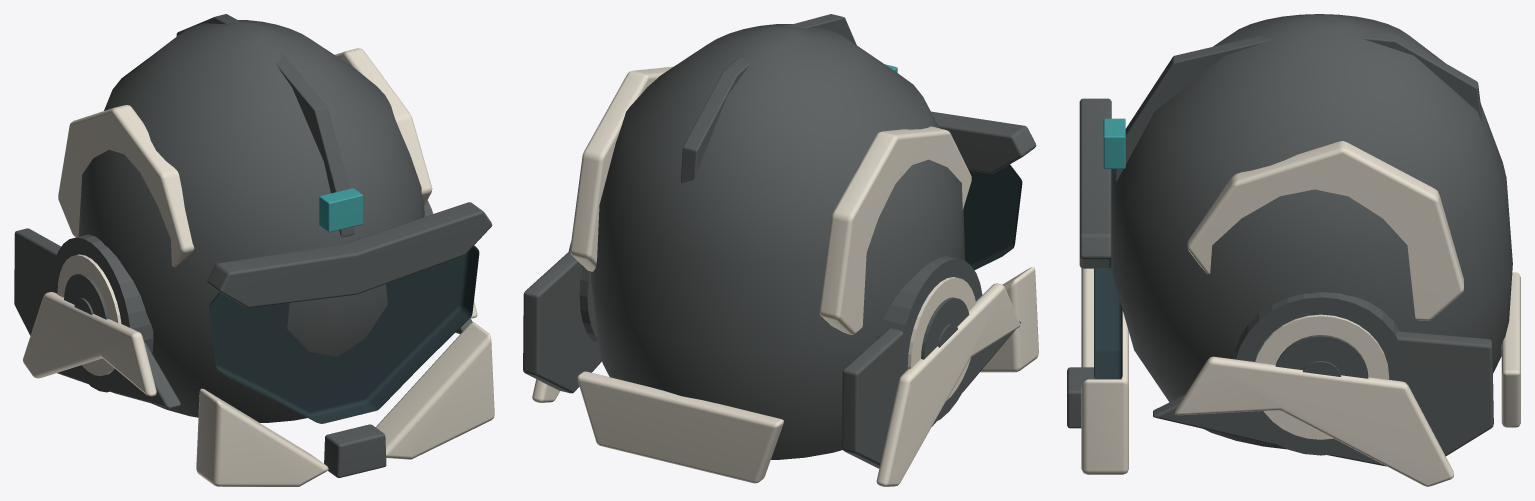
The model's file is kestrel-field-helmet.fbx.
The picture shows the model from 3 angles, left to right: view 1: azimuth 30°, elevation 25°; view 2: azimuth 150°, elevation 25°; view 3: azimuth 270°, elevation 25°; orthographic projection. The views are drawn at different scales.
Parts seen in each view (by area): view 1: Continuous fitted graphite helmet shell, One-piece recessed dark visor, Upper visor brow rail, Right independent cream mandible, Left cream crown side plate, Left independent cream mandible, Left cream cheek flank, Left graphite jaw socket, Left ear outer frame, Central raised crown spline, Chin mechanical latch, Right cream crown side plate (+3 smaller); view 2: Continuous fitted graphite helmet shell, Back nape armored panel, Left cream crown side plate, Left cream cheek flank, Right graphite jaw socket, Left graphite jaw socket, Right cream crown side plate, One-piece recessed dark visor, Left ear outer frame, Upper visor brow rail, Central raised crown spline, Left independent cream mandible (+3 smaller); view 3: Continuous fitted graphite helmet shell, Right cream crown side plate, Right cream cheek flank, Right graphite jaw socket, Right ear outer frame, Central raised crown spline, Upper visor brow rail, Right independent cream mandible, Right ear cream annulus, One-piece recessed dark visor, Back nape armored panel, Right ear black hub (+3 smaller).
Boxes of the visible parts, x1=… form: Continuous fitted graphite helmet shell: x1=78, y1=20, x2=424, y2=422; One-piece recessed dark visor: x1=209, y1=245, x2=479, y2=423; Upper visor brow rail: x1=207, y1=202, x2=492, y2=307; Right independent cream mandible: x1=375, y1=322, x2=494, y2=459; Left cream crown side plate: x1=58, y1=105, x2=194, y2=267; Left independent cream mandible: x1=196, y1=388, x2=328, y2=486; Left cream cheek flank: x1=23, y1=292, x2=156, y2=396; Left graphite jaw socket: x1=14, y1=228, x2=180, y2=408; Left ear outer frame: x1=52, y1=234, x2=153, y2=392; Central raised crown spline: x1=176, y1=14, x2=354, y2=237; Chin mechanical latch: x1=324, y1=424, x2=386, y2=477; Right cream crown side plate: x1=335, y1=48, x2=432, y2=205; Continuous fitted graphite helmet shell: x1=591, y1=24, x2=965, y2=459; Back nape armored panel: x1=577, y1=371, x2=783, y2=483; Left cream crown side plate: x1=819, y1=126, x2=971, y2=334; Left cream cheek flank: x1=876, y1=283, x2=1020, y2=486; Right graphite jaw socket: x1=523, y1=251, x2=601, y2=393; Left graphite jaw socket: x1=842, y1=321, x2=1020, y2=468; Right cream crown side plate: x1=570, y1=66, x2=673, y2=271; One-piece recessed dark visor: x1=963, y1=164, x2=1022, y2=270; Left ear outer frame: x1=877, y1=256, x2=982, y2=422; Upper visor brow rail: x1=931, y1=111, x2=1036, y2=173; Central raised crown spline: x1=681, y1=14, x2=856, y2=182; Left independent cream mandible: x1=980, y1=267, x2=1038, y2=372; Continuous fitted graphite helmet shell: x1=1111, y1=14, x2=1512, y2=449; Right cream crown side plate: x1=1187, y1=141, x2=1463, y2=320; Right cream cheek flank: x1=1175, y1=356, x2=1453, y2=486; Right graphite jaw socket: x1=1153, y1=331, x2=1493, y2=466; Right ear outer frame: x1=1234, y1=292, x2=1408, y2=455; Central raised crown spline: x1=1115, y1=31, x2=1482, y2=181; Upper visor brow rail: x1=1079, y1=98, x2=1111, y2=268; Right independent cream mandible: x1=1081, y1=379, x2=1128, y2=474; Right ear cream annulus: x1=1255, y1=314, x2=1389, y2=439; One-piece recessed dark visor: x1=1094, y1=169, x2=1122, y2=379; Back nape armored panel: x1=1501, y1=272, x2=1520, y2=427; Right ear black hub: x1=1275, y1=335, x2=1368, y2=378.
Size of the model in its own units: 26.6 by 27.8 by 28.6.
